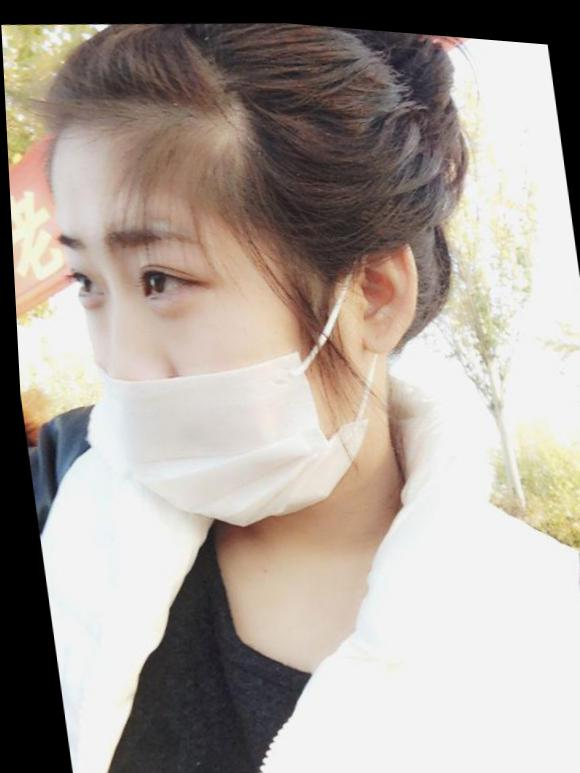WRONG: (42, 143, 388, 546)
